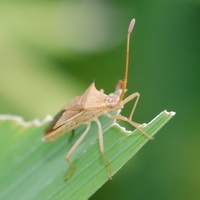insect: (43, 19, 152, 180)
